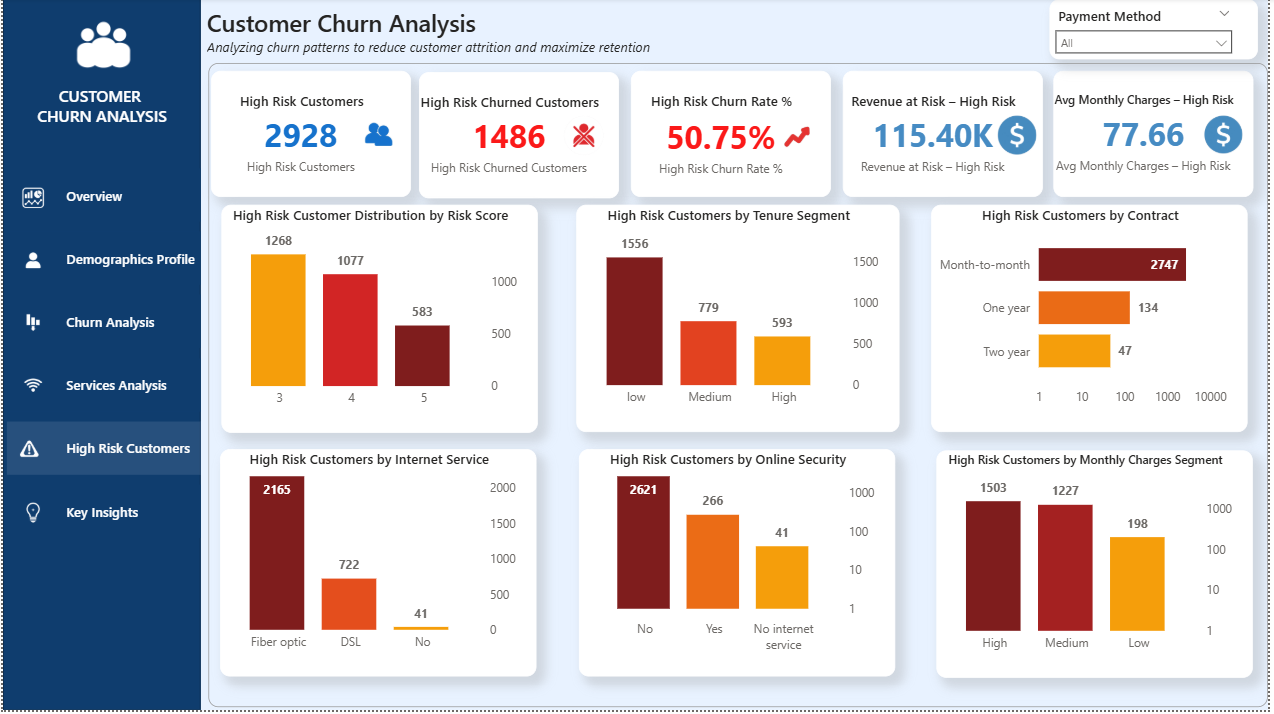

Layout of this report page (visuals, bound fields, positions):
{"tool":"powerbi","page":{"name":"High Risk Customers","canvas":[1280,720],"ordinal":4},"visuals":[{"type":"shape","title":"Menu BG","box":[0,0,200,720.3],"z":0},{"type":"image","box":[40.1,0,124.6,94.6],"z":1000},{"type":"textbox","box":[0,82.3,200.3,55.6],"z":2000},{"type":"pageNavigator","title":"Menu Buttons","box":[3.3,172.5,196,378.3],"z":3000},{"type":"image","box":[3.3,505.2,53.4,31.1],"z":4000},{"type":"image","box":[0,440.6,53.4,31.1],"z":5000},{"type":"image","box":[3.3,376.1,53.4,31.1],"z":6000},{"type":"image","box":[3.3,312.7,53.4,31.1],"z":7000},{"type":"image","box":[3.3,249.3,53.4,31.1],"z":8000},{"type":"image","box":[3.3,186.9,53.4,31.1],"z":9000},{"type":"textbox","box":[201.8,2.1,470.2,72.8],"z":10000},{"type":"shape","box":[208.3,65.9,1071.4,651.8],"z":11000},{"type":"card","title":"High Risk Customers","fields":{"Values":["public customer_churn.High Risk Customer"]},"box":[211,73.4,202,127.7],"z":12000},{"type":"image","box":[352.7,98.4,54.5,60.2],"z":13000},{"type":"card","title":"High Risk Churned Customers","fields":{"Values":["public customer_churn.High Risk Churned Customers"]},"box":[421.3,74.4,202.1,127.7],"z":14000},{"type":"image","box":[559.1,100.4,54.5,59.2],"z":15000},{"type":"card","title":"High Risk Churn Rate %","fields":{"Values":["public customer_churn.High Risk Churn Rate %"]},"box":[634.8,73.4,202.1,127.7],"z":16000},{"type":"image","box":[776,101.3,54.5,59.2],"z":17000},{"type":"card","title":"Revenue at Risk – High Risk","fields":{"Values":["public customer_churn.Revenue at Risk – High Risk"]},"box":[849.3,73.4,202.1,127.7],"z":18000},{"type":"image","box":[997.8,100.4,55.4,59.2],"z":19000},{"type":"card","title":"Avg Monthly Charges – High Risk","fields":{"Values":["public customer_churn.Avg Monthly Charges – High Risk"]},"box":[1062.8,73.4,202.1,127.7],"z":20000},{"type":"image","box":[1206.8,98.2,54.3,60],"z":21000},{"type":"columnChart","title":"High Risk Customer Distribution by Risk Score","fields":{"Category":["public customer_churn.Risk Score"],"Y":["public customer_churn.Total Customers"]},"box":[221.1,209.7,320.3,230.7],"z":22000},{"type":"columnChart","title":"High Risk Customers by Tenure Segment","fields":{"Y":["public customer_churn.High Risk Customers"],"Category":["public customer_churn.tenure_segment"]},"box":[580.5,209.7,327,229.7],"z":23000},{"type":"clusteredBarChart","title":"High Risk Customers by Contract","fields":{"Category":["public customer_churn.Contract"],"Y":["public customer_churn.High Risk Customers"]},"box":[938.9,208.8,320.3,230],"z":24000},{"type":"columnChart","title":"High Risk Customers by Internet Service","fields":{"Y":["public customer_churn.High Risk Customers"],"Category":["public customer_churn.internet_service"]},"box":[220,456.6,320.3,230],"z":25000},{"type":"columnChart","title":"High Risk Customers by Online Security","fields":{"Y":["public customer_churn.High Risk Customers"],"Category":["public customer_churn.online_security"]},"box":[582.4,456.6,320.3,229.7],"z":26000},{"type":"columnChart","title":"High Risk Customers by Monthly Charges Segment","fields":{"Y":["public customer_churn.High Risk Customers"],"Category":["public customer_churn.monthly_charges_segment"]},"box":[944.6,457.5,320.3,229.7],"z":27000},{"type":"slicer","fields":{"Values":["public customer_churn.payment_method"]},"box":[1058.1,1.9,210.7,61],"z":28000}]}

Visuals, with their boxes in screenshot pixels (x1, y1, x2, y2), scaled from the page's 1280x720 canvas onto the 1274x714 screenshot:
"Menu BG" shape: bbox=(0, 0, 199, 713)
image: bbox=(40, 0, 164, 94)
textbox: bbox=(0, 82, 199, 137)
"Menu Buttons" pageNavigator: bbox=(3, 171, 198, 546)
image: bbox=(3, 501, 56, 532)
image: bbox=(0, 437, 53, 468)
image: bbox=(3, 373, 56, 404)
image: bbox=(3, 310, 56, 341)
image: bbox=(3, 247, 56, 278)
image: bbox=(3, 185, 56, 216)
textbox: bbox=(201, 2, 669, 74)
shape: bbox=(207, 65, 1273, 712)
"High Risk Customers" card: bbox=(210, 73, 411, 199)
image: bbox=(351, 98, 405, 157)
"High Risk Churned Customers" card: bbox=(419, 74, 620, 200)
image: bbox=(556, 100, 611, 158)
"High Risk Churn Rate %" card: bbox=(632, 73, 833, 199)
image: bbox=(772, 100, 827, 159)
"Revenue at Risk – High Risk" card: bbox=(845, 73, 1046, 199)
image: bbox=(993, 100, 1048, 158)
"Avg Monthly Charges – High Risk" card: bbox=(1058, 73, 1259, 199)
image: bbox=(1201, 97, 1255, 157)
"High Risk Customer Distribution by Risk Score" columnChart: bbox=(220, 208, 539, 437)
"High Risk Customers by Tenure Segment" columnChart: bbox=(578, 208, 903, 436)
"High Risk Customers by Contract" clusteredBarChart: bbox=(934, 207, 1253, 435)
"High Risk Customers by Internet Service" columnChart: bbox=(219, 453, 538, 681)
"High Risk Customers by Online Security" columnChart: bbox=(580, 453, 898, 681)
"High Risk Customers by Monthly Charges Segment" columnChart: bbox=(940, 454, 1259, 681)
slicer - public customer_churn.payment_method: bbox=(1053, 2, 1263, 62)
